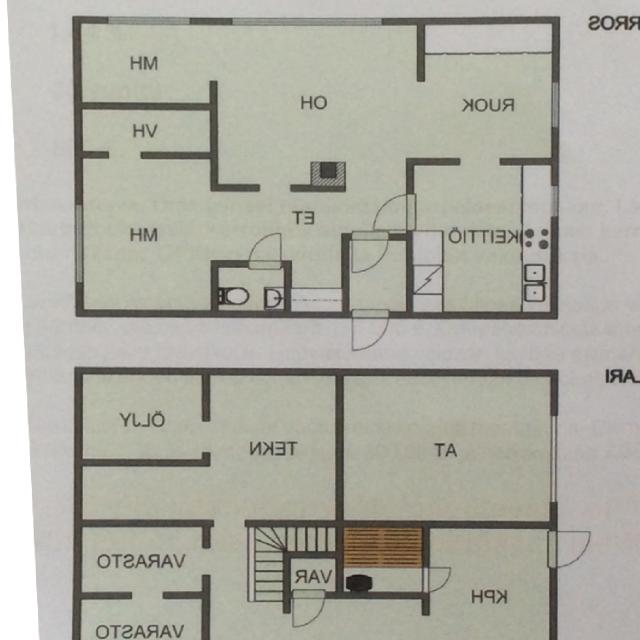door: (352, 311, 390, 355), (550, 531, 596, 567), (352, 233, 388, 275), (371, 195, 414, 230), (250, 230, 281, 268), (294, 591, 324, 629), (422, 567, 453, 590)
